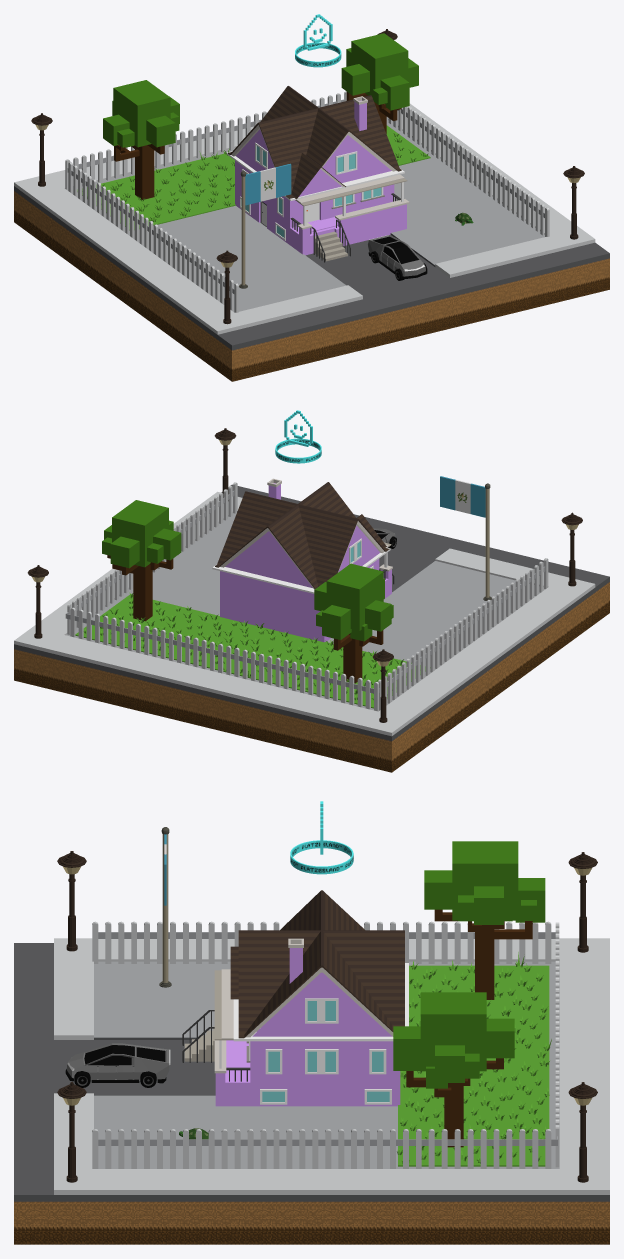
3 renders of one model, top to bottom at view 1: azimuth 30°, elevation 25°; view 2: azimuth 150°, elevation 25°; view 3: azimuth 270°, elevation 25°, orthographic. The views are drawn at different scales.
Visible parts, largest first — view 1: Cube.004, Cube.391, OBJRANDOM_GUATEMALAN_FLAG, VEHICLES_CYBERTRUCK, TYPE_PREMIUM; view 2: Cube.004, Cube.391, OBJRANDOM_GUATEMALAN_FLAG, TYPE_PREMIUM; view 3: Cube.004, Cube.391, VEHICLES_CYBERTRUCK, TYPE_PREMIUM, OBJRANDOM_GUATEMALAN_FLAG.
Part boxes in pixels (x1,y1,x2,y2): Cube.004: [14, 29, 609, 381]; Cube.391: [226, 86, 409, 262]; OBJRANDOM_GUATEMALAN_FLAG: [239, 163, 291, 288]; VEHICLES_CYBERTRUCK: [368, 235, 427, 280]; TYPE_PREMIUM: [295, 14, 341, 67]; Cube.004: [14, 428, 609, 772]; Cube.391: [212, 478, 394, 642]; OBJRANDOM_GUATEMALAN_FLAG: [440, 476, 491, 600]; TYPE_PREMIUM: [275, 410, 321, 463]; Cube.004: [14, 841, 609, 1244]; Cube.391: [182, 890, 408, 1106]; VEHICLES_CYBERTRUCK: [65, 1043, 170, 1087]; TYPE_PREMIUM: [290, 801, 353, 874]; OBJRANDOM_GUATEMALAN_FLAG: [159, 827, 171, 987].
Size of the model in its own units: 4000 by 2567 by 4000.
40 materials, 4 textured.
